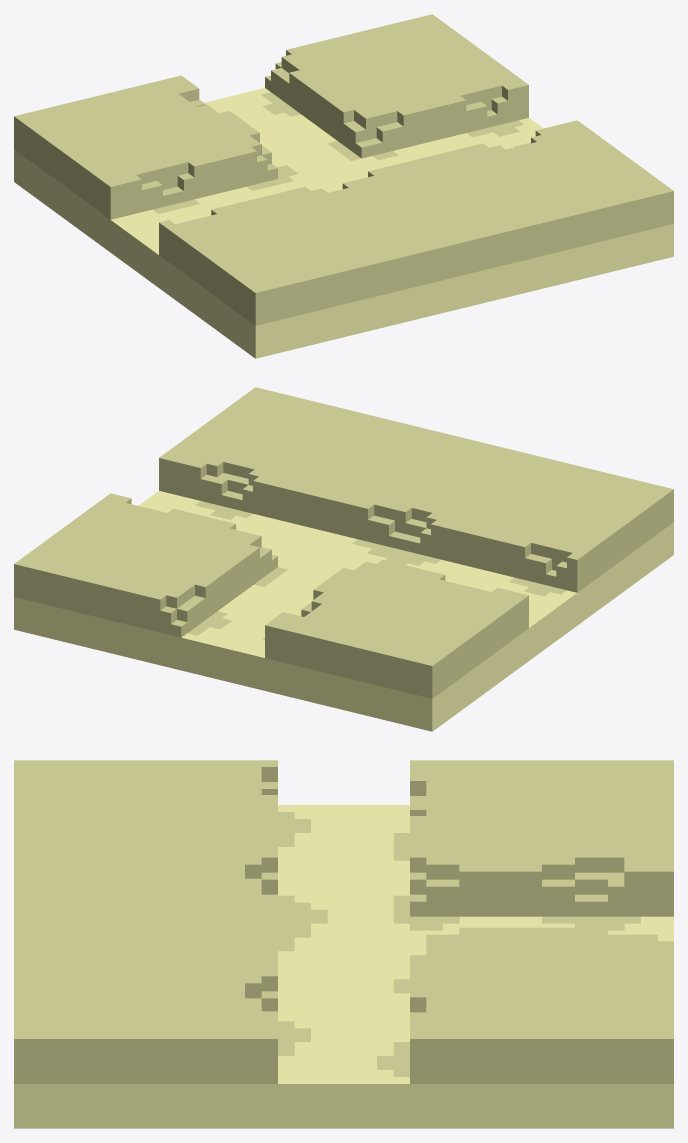
The model's file is Splitting Path Desert Tile 1.obj.
3 renders of one model, top to bottom at view 1: azimuth 30°, elevation 25°; view 2: azimuth 150°, elevation 25°; view 3: azimuth 270°, elevation 25°, orthographic. The views are drawn at different scales.
Size of the model in its own units: 4 by 0.6 by 4.
1 material, 1 textured.
